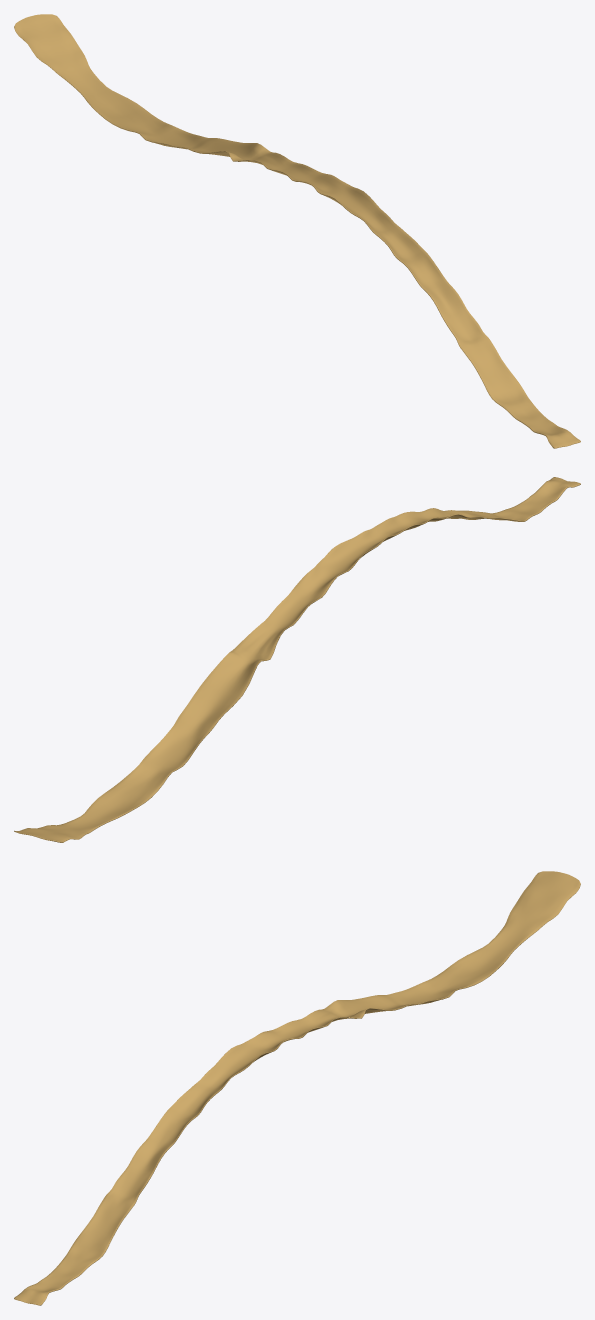
3 views of the same model, one above another, from view 1: azimuth 30°, elevation 25°; view 2: azimuth 150°, elevation 25°; view 3: azimuth 330°, elevation 25° (orthographic).
Visible parts, largest first — view 1: 后纵韧带; view 2: 后纵韧带; view 3: 后纵韧带.
Boxes of the visible parts, x1,y1,x2,y2 form: 后纵韧带: [14, 14, 580, 448]; 后纵韧带: [14, 477, 580, 842]; 后纵韧带: [14, 871, 580, 1305].
Size of the model in its own units: 0.0407 by 0.0796 by 0.8395.
